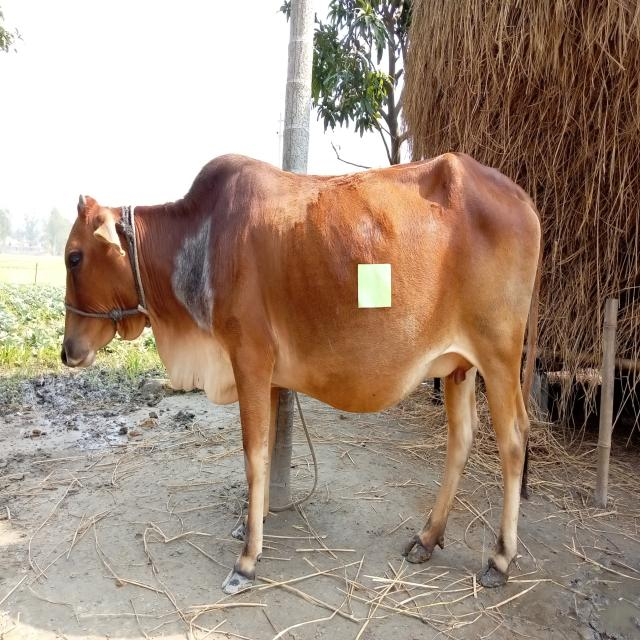badan_sapi: (235, 175, 537, 396)
sapi: (53, 147, 545, 606)
